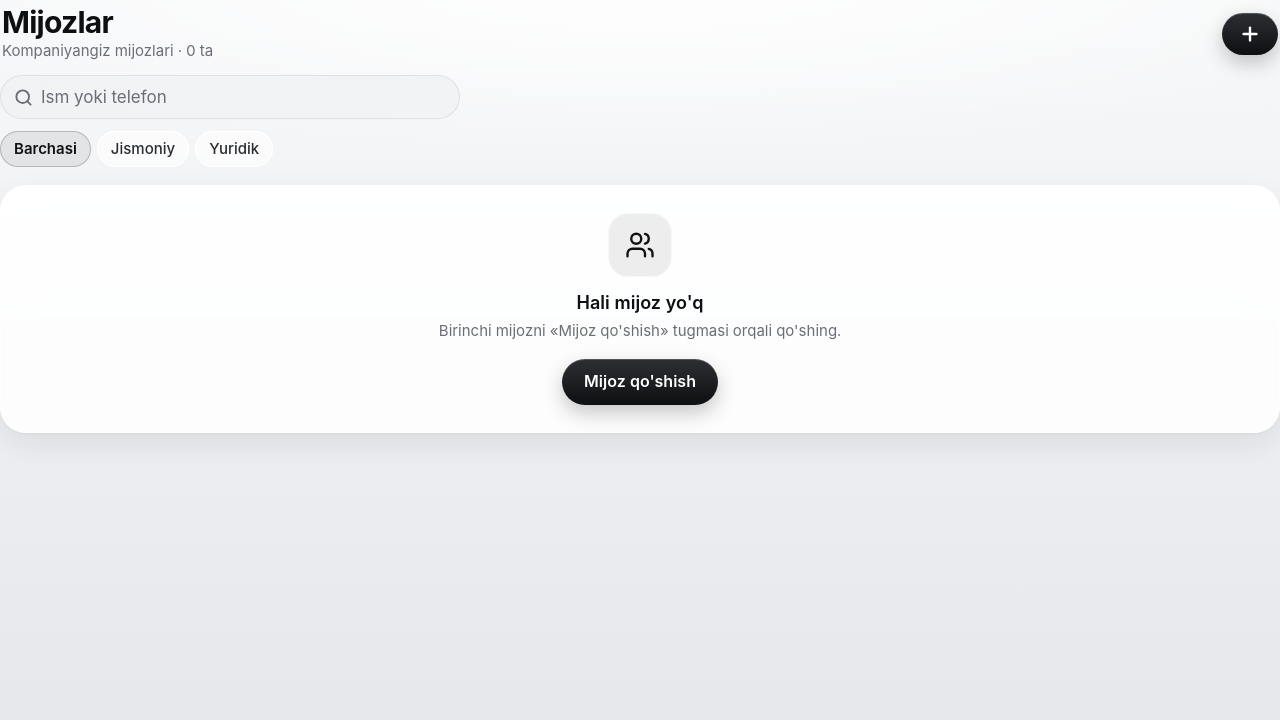
Test: what is wrong with the form is said under its field, in the API's words, and nothing is sent
Click the button named "Mijoz qo'shish".
click(1250, 34)  # box [1222, 13, 1278, 55]
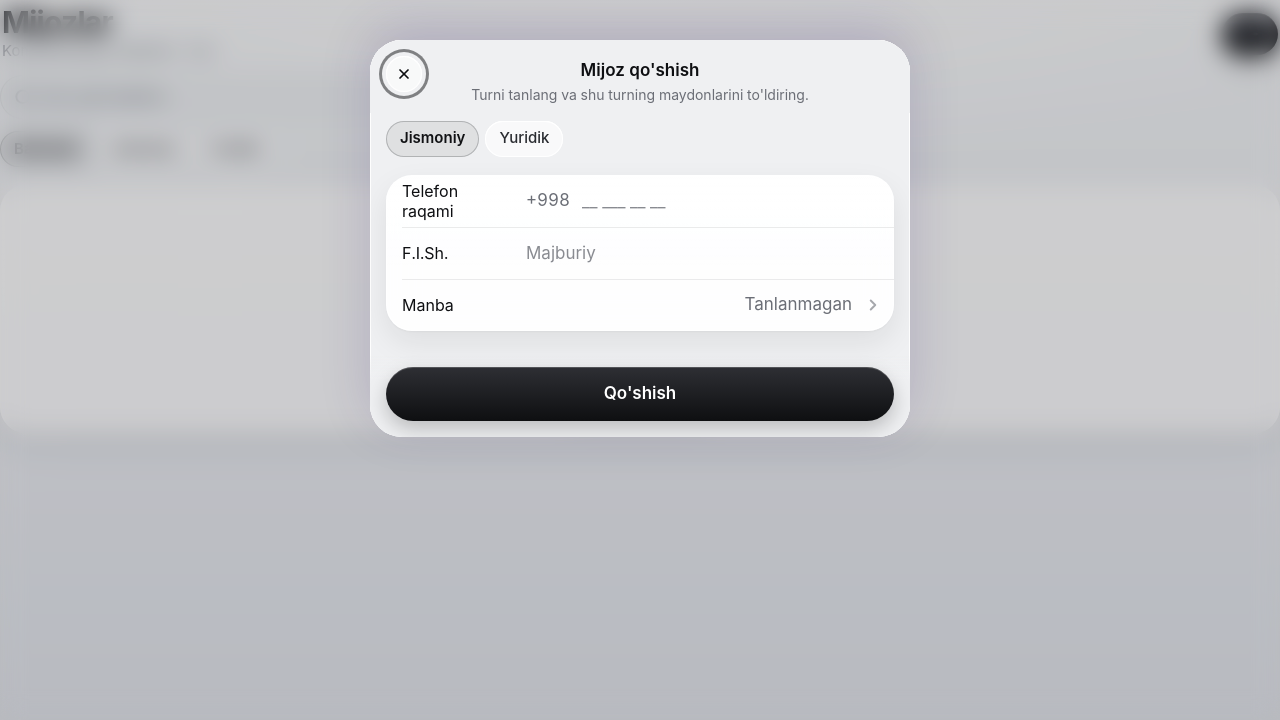
Click the radio button labelled "Yuridik".
click(524, 138)  # box [485, 120, 563, 156]
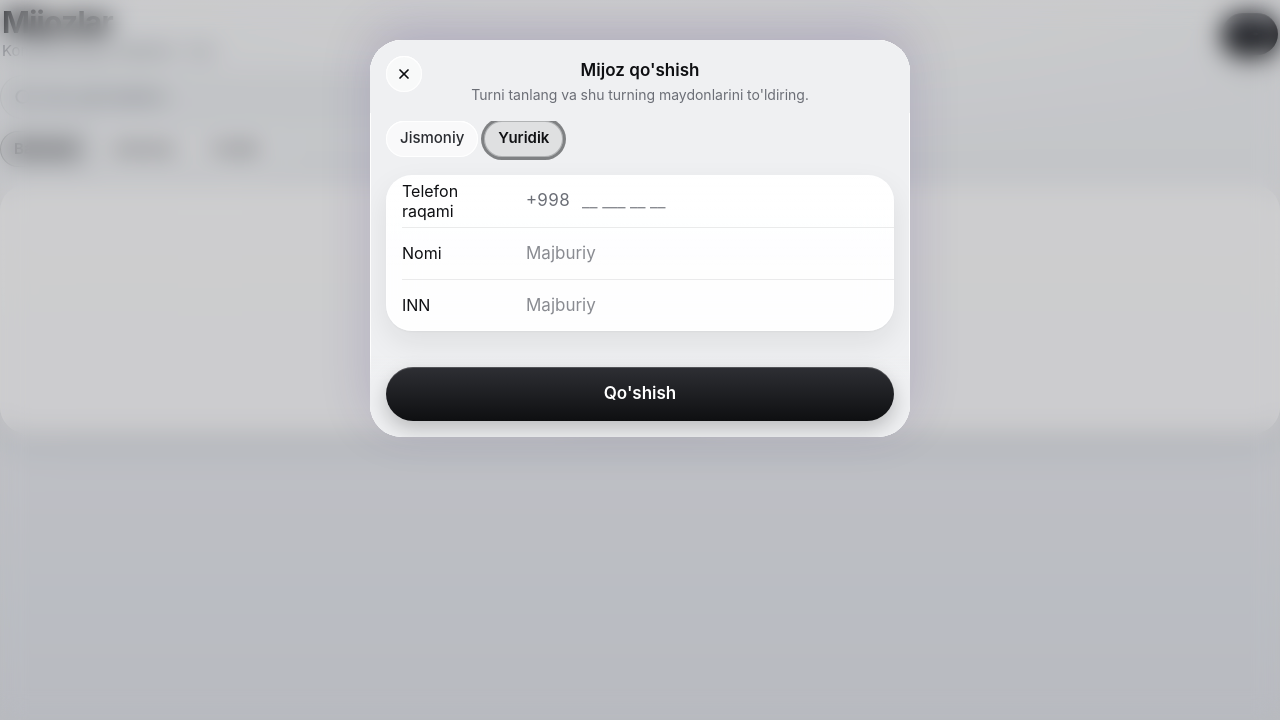
Type "90 123" into the field labelled "Telefon raqami".
click(730, 200); type("90 123")  # box [582, 178, 878, 222]
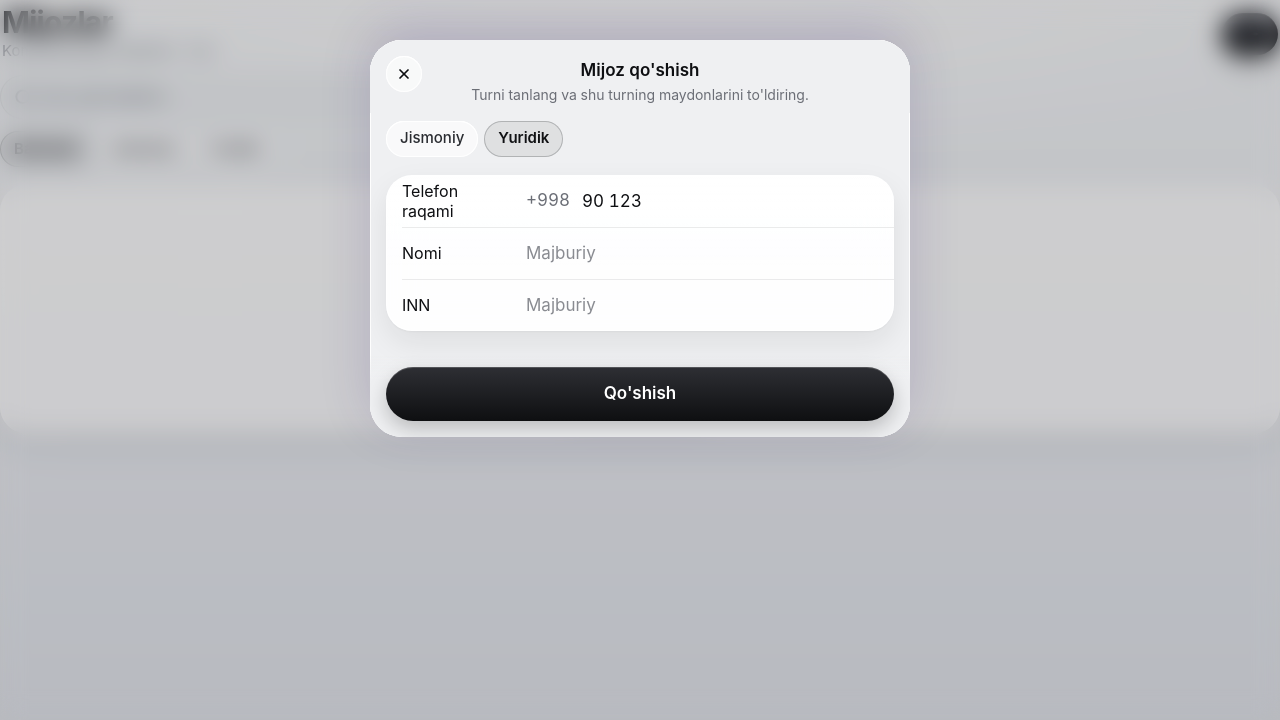
Type "12.5" into the field labelled "INN".
click(702, 304); type("12.5")  # box [526, 282, 878, 326]
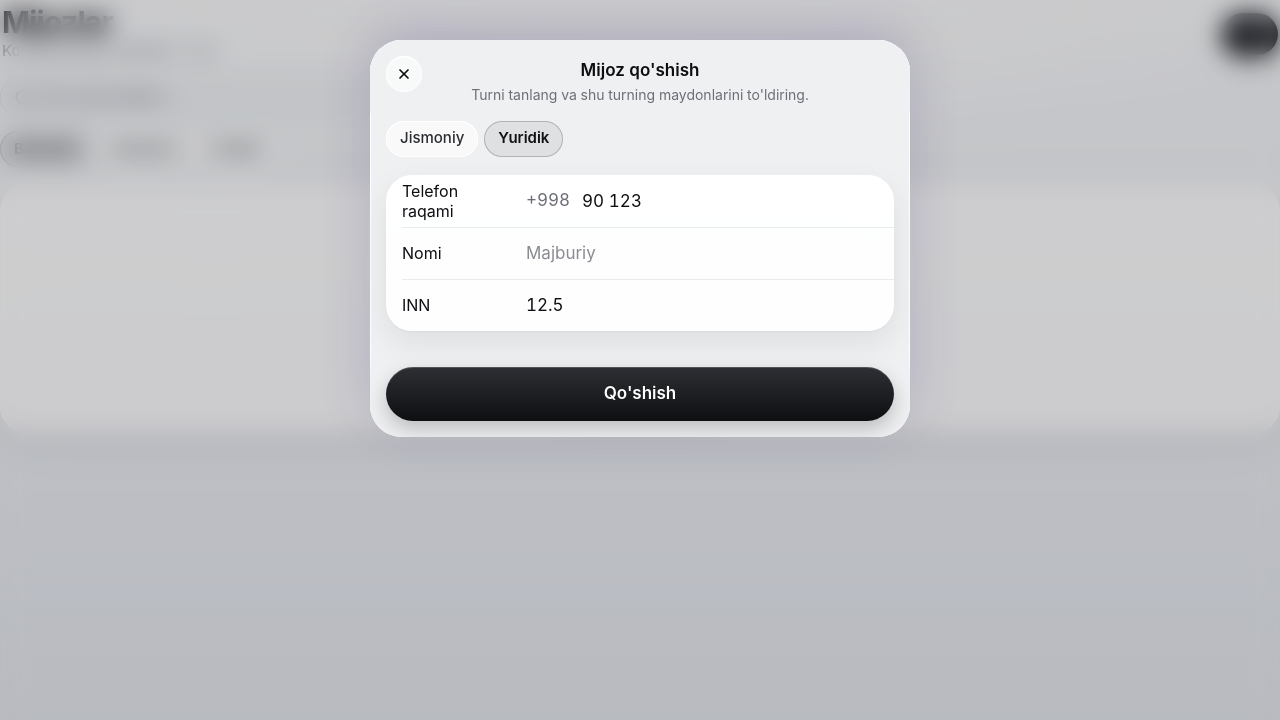
Click the button "Qo'shish".
click(640, 394)  # box [386, 366, 894, 420]
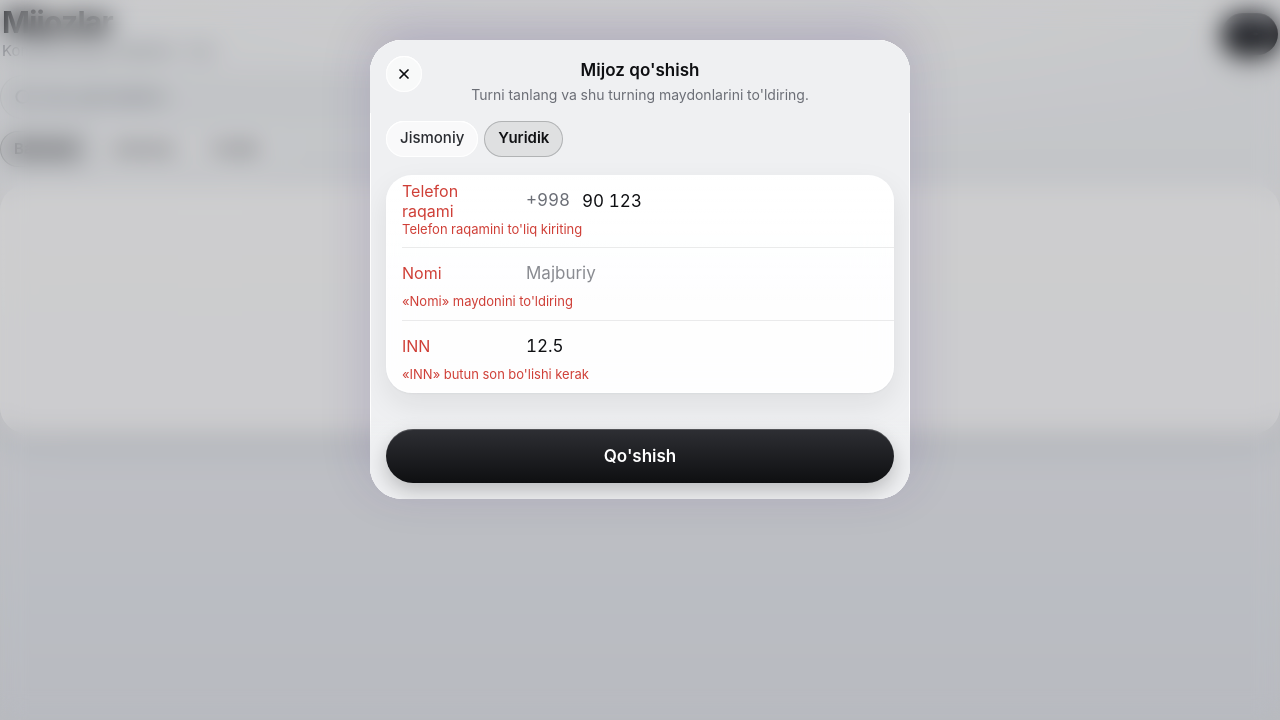
Expected: the text "Telefon raqamini to'liq kiriting" is shown, [402, 220, 582, 236]
Expected: the text "«Nomi» maydonini to'ldiring" is shown, [402, 293, 573, 309]
Expected: the text "«INN» butun son bo'lishi kerak" is shown, [402, 366, 589, 382]
